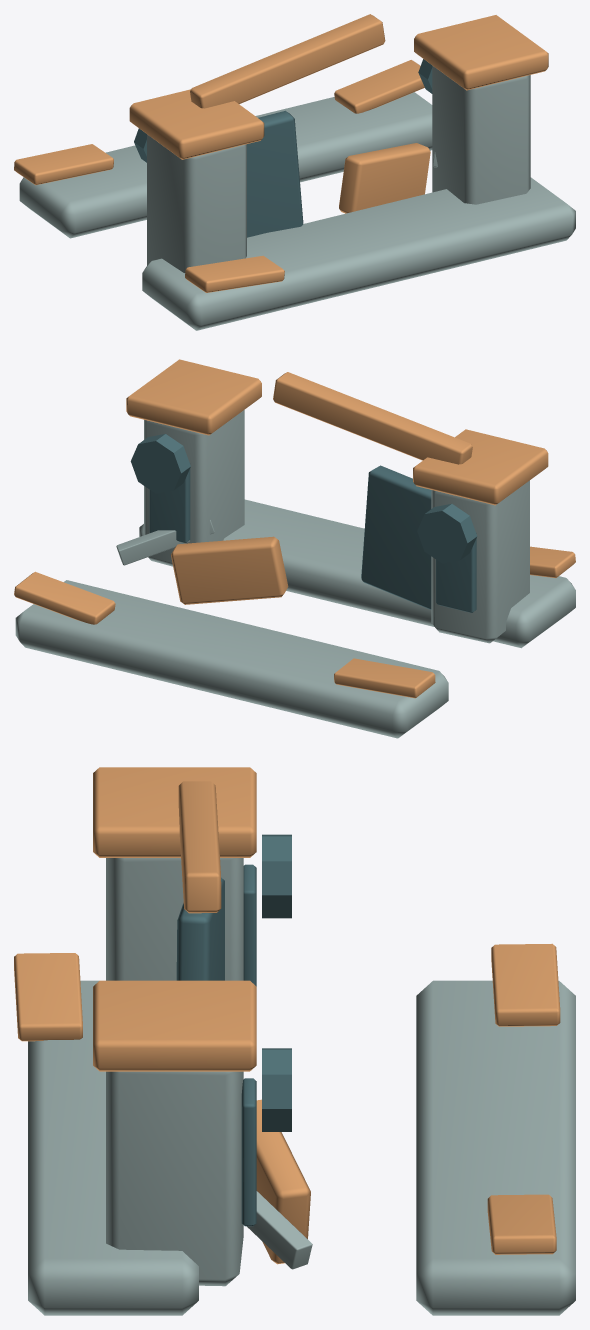
Rendered from landmark-delta-spillway.glb.
3 views of the same model, one above another, from view 1: azimuth 30°, elevation 25°; view 2: azimuth 150°, elevation 25°; view 3: azimuth 270°, elevation 25° (orthographic). The views are drawn at different scales.
Parts seen in each view (by area): view 1: landmark-delta-spillway | Floodworn concrete, landmark-delta-spillway | Oxidized warning alloy, landmark-delta-spillway | Sluice interior; view 2: landmark-delta-spillway | Floodworn concrete, landmark-delta-spillway | Oxidized warning alloy, landmark-delta-spillway | Sluice interior; view 3: landmark-delta-spillway | Floodworn concrete, landmark-delta-spillway | Oxidized warning alloy, landmark-delta-spillway | Sluice interior.
Boxes of the visible parts, <box> form: landmark-delta-spillway | Floodworn concrete: <box>19,65,575,330</box>; landmark-delta-spillway | Oxidized warning alloy: <box>14,14,548,292</box>; landmark-delta-spillway | Sluice interior: <box>134,59,432,237</box>; landmark-delta-spillway | Floodworn concrete: <box>15,410,575,738</box>; landmark-delta-spillway | Oxidized warning alloy: <box>14,359,575,698</box>; landmark-delta-spillway | Sluice interior: <box>130,434,477,612</box>; landmark-delta-spillway | Floodworn concrete: <box>28,858,575,1315</box>; landmark-delta-spillway | Oxidized warning alloy: <box>14,767,560,1264</box>; landmark-delta-spillway | Sluice interior: <box>176,834,291,1226</box>.
Size of the model in its own units: 3.84 by 2.02 by 3.03.
